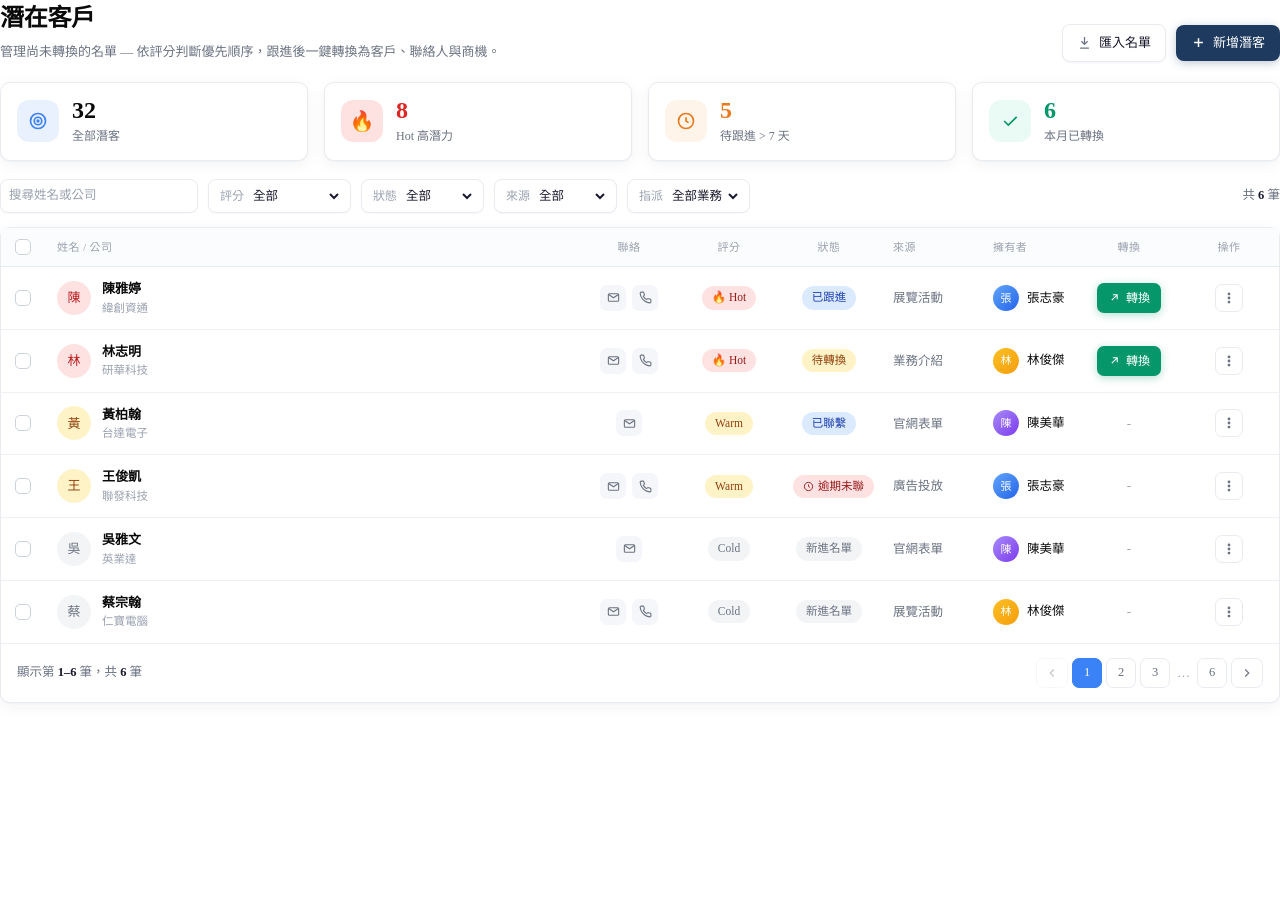
Test: Leads 編輯 › 修改姓名後儲存，該列更新
This screenshot has width=1280, height=900.
Click the button named "更多操作" in the row of "黃柏翰" at (1229, 423), box [1215,409,1243,437]
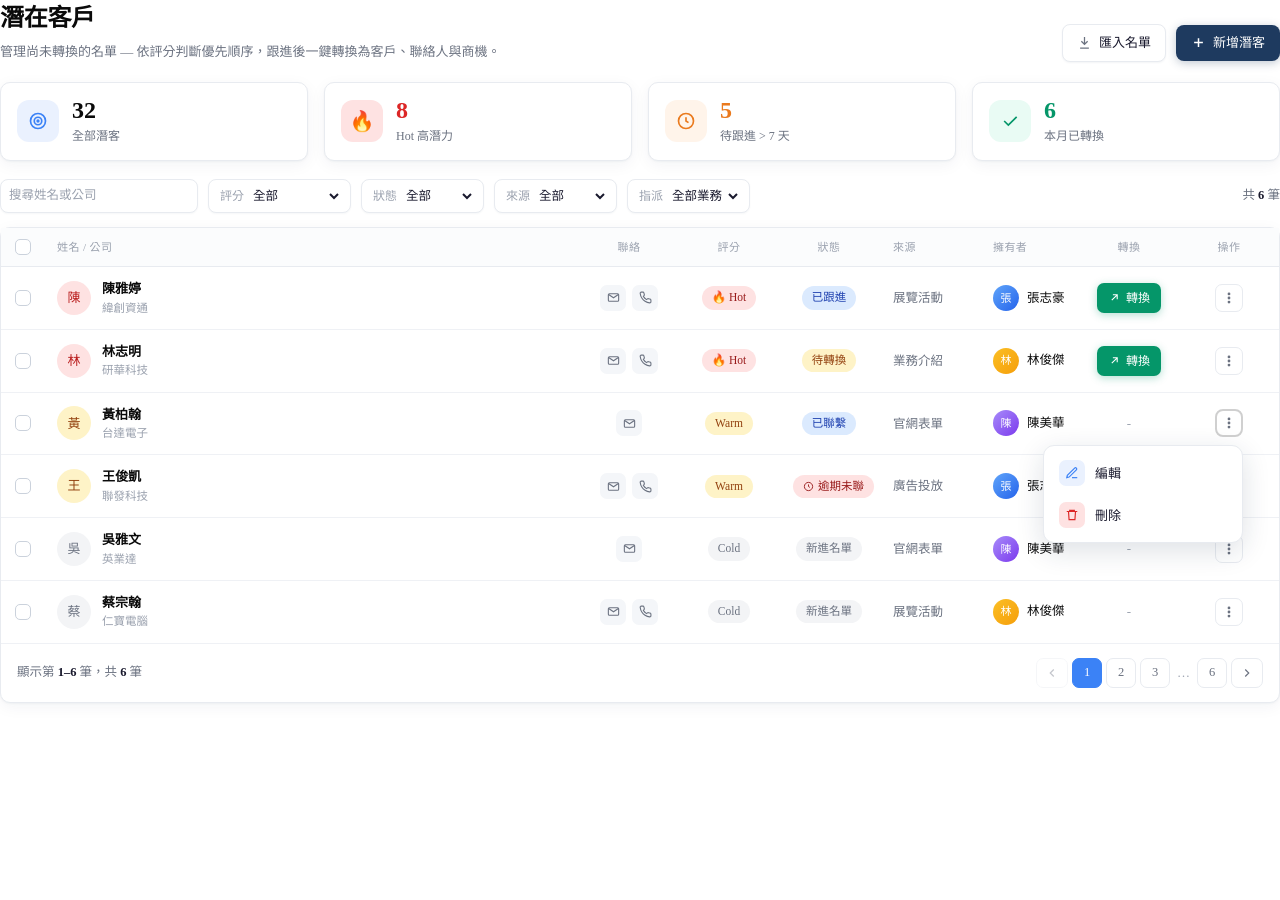
Click the menu item "編輯" at (1072, 473), box [1059,460,1121,486]
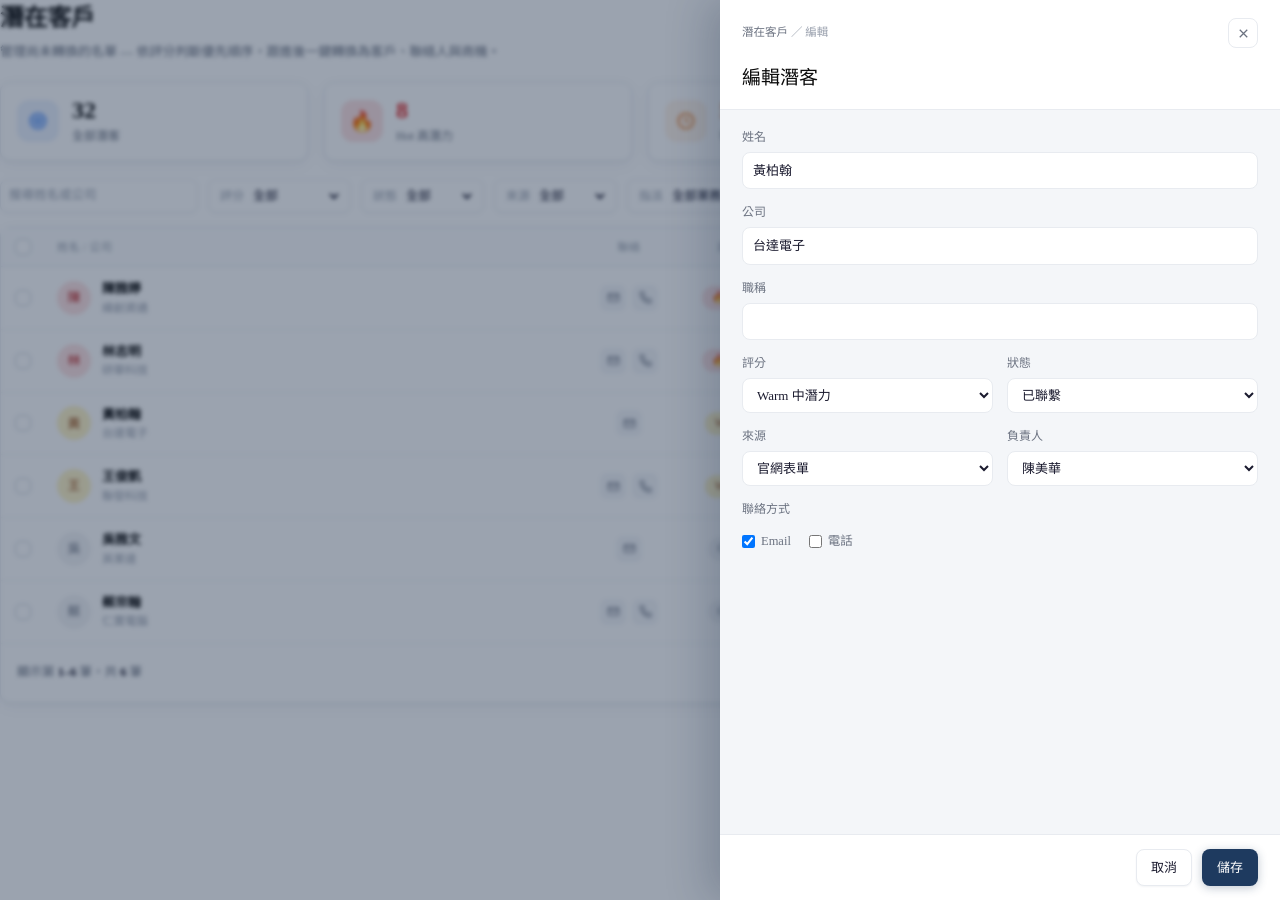
Replace the text in the field labelled "姓名" with "黃柏翰改" at (1000, 170), box [742,152,1258,189]
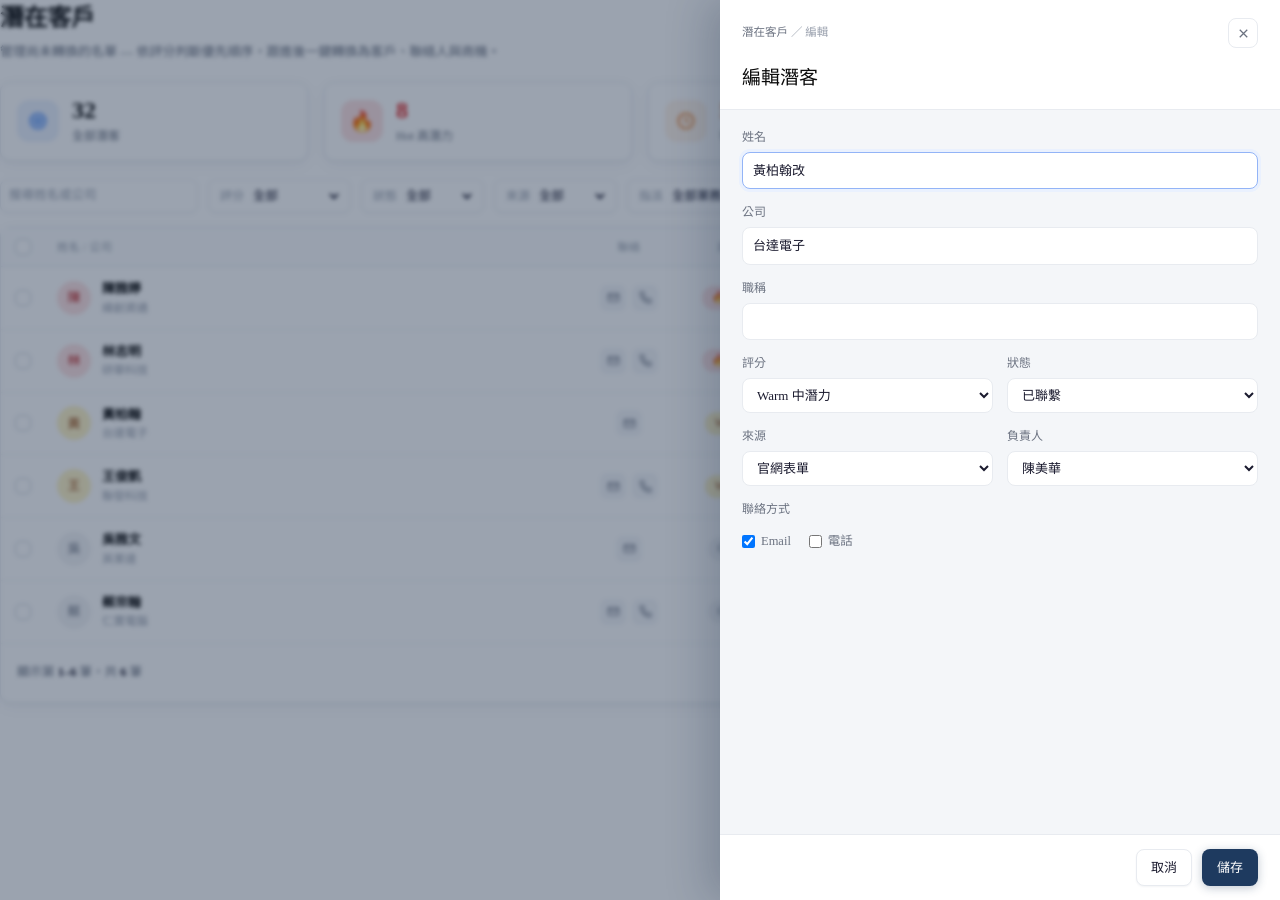
Click the button "儲存" at (1230, 867), box [1202,848,1258,886]
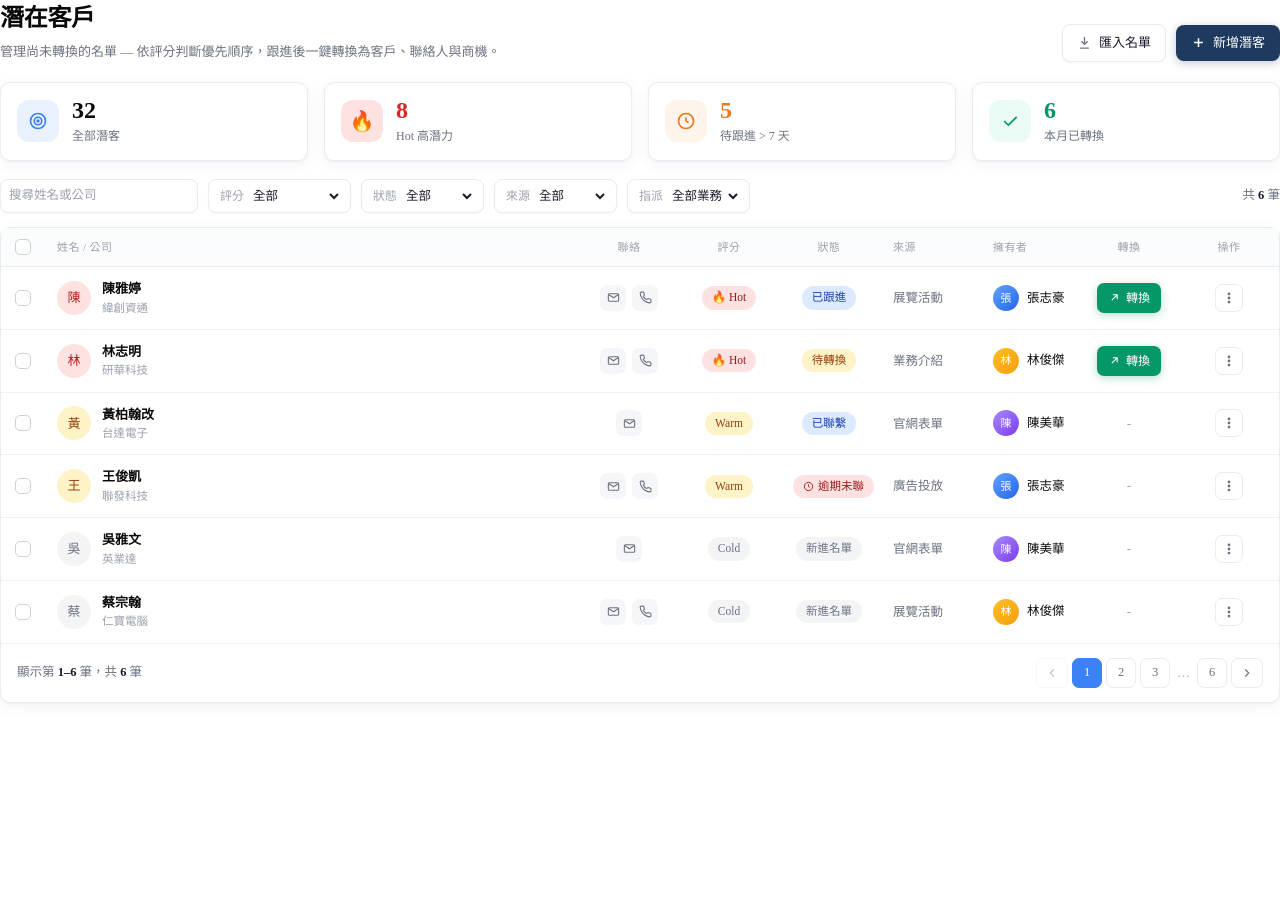
Check: the text "黃柏翰改" is shown, box [102,404,154,424]
